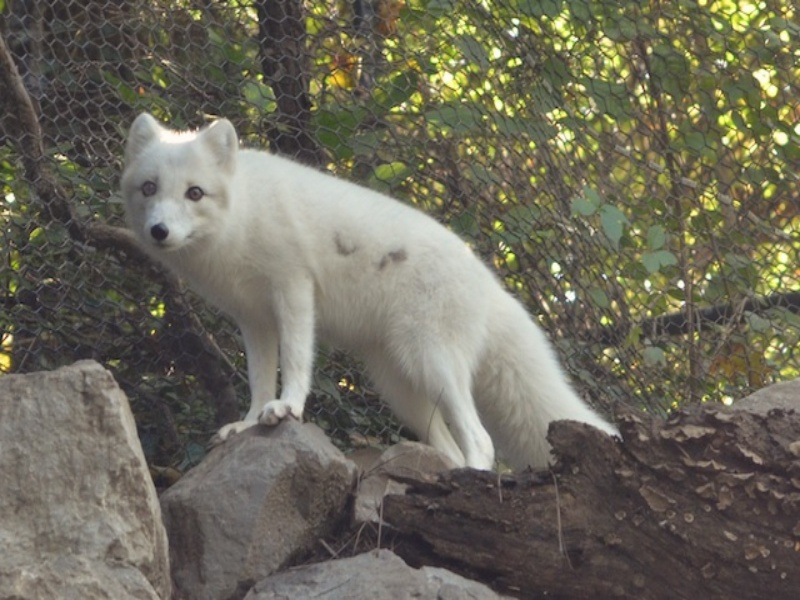fox: (120, 109, 629, 481)
